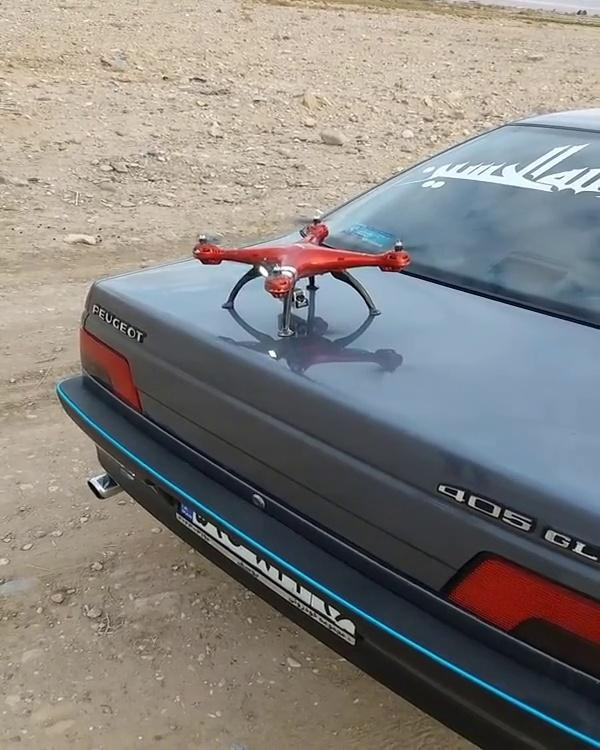drone: (186, 211, 432, 340)
